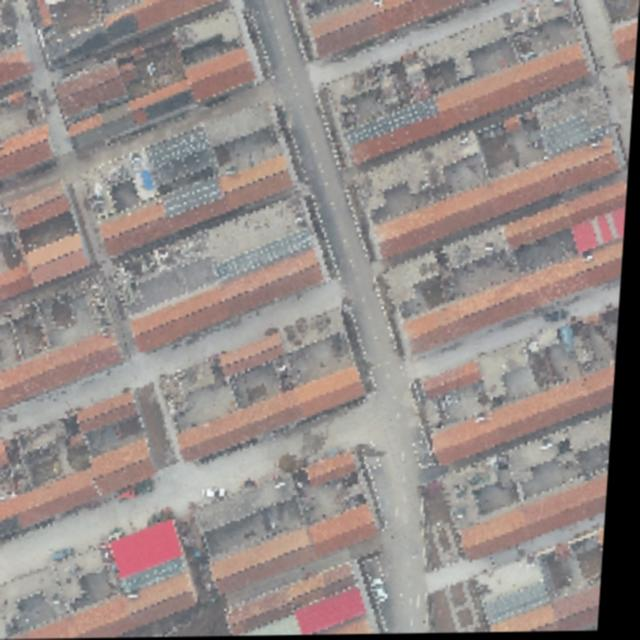Batiment: (382, 141, 620, 257), (355, 46, 586, 161), (410, 243, 623, 353), (443, 368, 618, 465), (188, 368, 366, 459), (23, 572, 206, 639), (471, 477, 613, 559), (239, 565, 362, 632), (510, 184, 630, 250), (220, 529, 325, 594), (0, 472, 105, 528), (118, 521, 194, 594), (499, 588, 606, 633), (98, 440, 163, 496), (316, 506, 384, 558), (305, 590, 372, 635), (546, 588, 606, 633), (228, 333, 287, 375), (87, 391, 140, 432), (429, 364, 487, 398), (614, 23, 637, 64), (0, 442, 14, 468)
